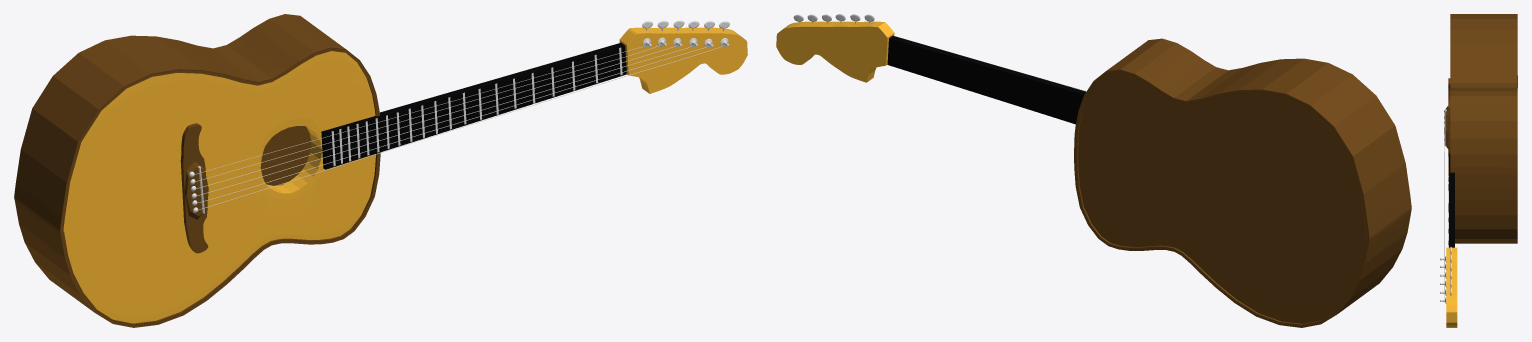
The model's file is model_design_guitar1.gltf.
The picture shows the model from 3 angles, left to right: view 1: azimuth 30°, elevation 25°; view 2: azimuth 150°, elevation 25°; view 3: azimuth 270°, elevation 25°; orthographic projection. The views are drawn at different scales.
Visible parts, largest first — view 1: guitar_face, guitar_wrap, guitar_bar, guitar_head, guitar_line, guitar_center, guitar_back, guitar_bar_cylinder, guitar_head_node; view 2: guitar_back, guitar_wrap, guitar_bar, guitar_head; view 3: guitar_wrap, guitar_head, guitar_bar, guitar_center, guitar_head_node, guitar_line, guitar_bar_cylinder.
Part boxes in pixels (bbox=[...]): guitar_face: bbox=[63, 51, 375, 323]; guitar_wrap: bbox=[14, 14, 380, 327]; guitar_bar: bbox=[321, 43, 626, 169]; guitar_head: bbox=[619, 27, 747, 93]; guitar_line: bbox=[194, 41, 725, 210]; guitar_center: bbox=[180, 123, 208, 253]; guitar_back: bbox=[260, 126, 311, 185]; guitar_bar_cylinder: bbox=[198, 47, 622, 213]; guitar_head_node: bbox=[642, 20, 729, 47]; guitar_back: bbox=[1078, 72, 1366, 323]; guitar_wrap: bbox=[1074, 38, 1411, 327]; guitar_bar: bbox=[887, 35, 1085, 124]; guitar_head: bbox=[776, 21, 894, 82]; guitar_wrap: bbox=[1450, 14, 1517, 243]; guitar_head: bbox=[1446, 247, 1457, 327]; guitar_bar: bbox=[1449, 154, 1454, 247]; guitar_center: bbox=[1445, 78, 1450, 175]; guitar_head_node: bbox=[1440, 247, 1451, 303]; guitar_line: bbox=[1444, 112, 1444, 302]; guitar_bar_cylinder: bbox=[1444, 109, 1448, 247].
Bounding box in the file's own units: 5.04 × 1.78 × 0.6764.
